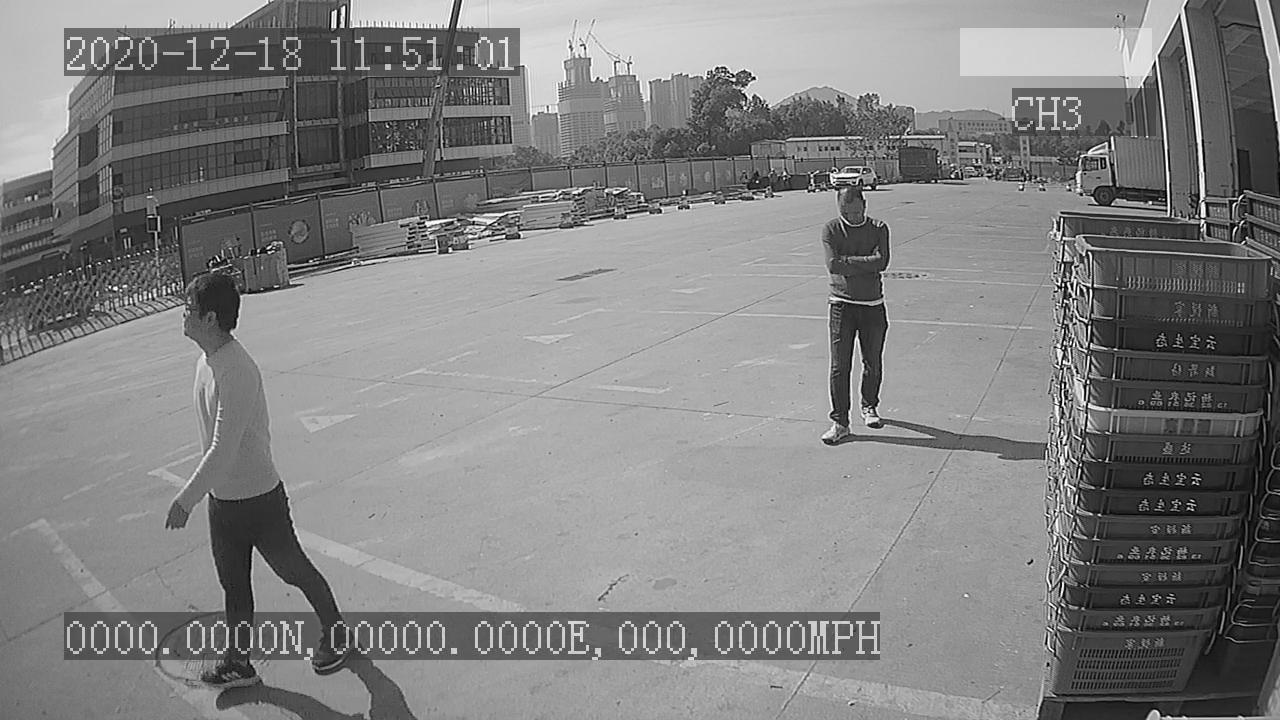person: (809, 181, 895, 447)
